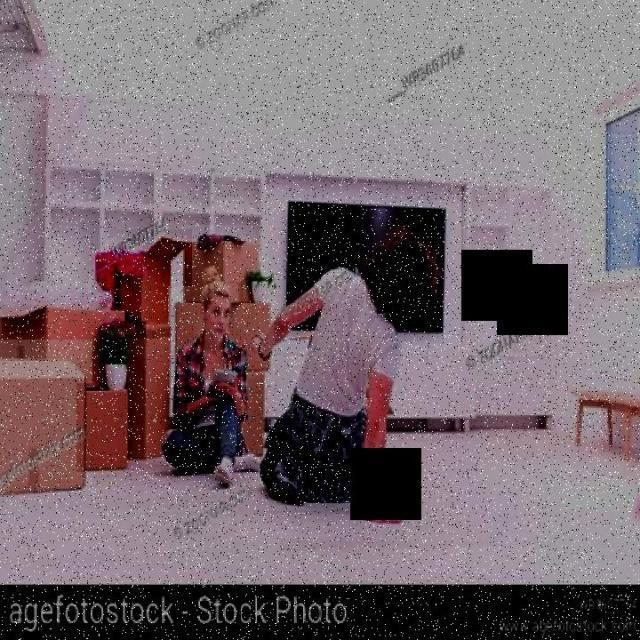box: (0, 339, 92, 494), (1, 288, 116, 382), (168, 286, 275, 386), (109, 229, 192, 335), (115, 324, 172, 460), (180, 224, 268, 310), (76, 383, 132, 472), (236, 370, 266, 460)
